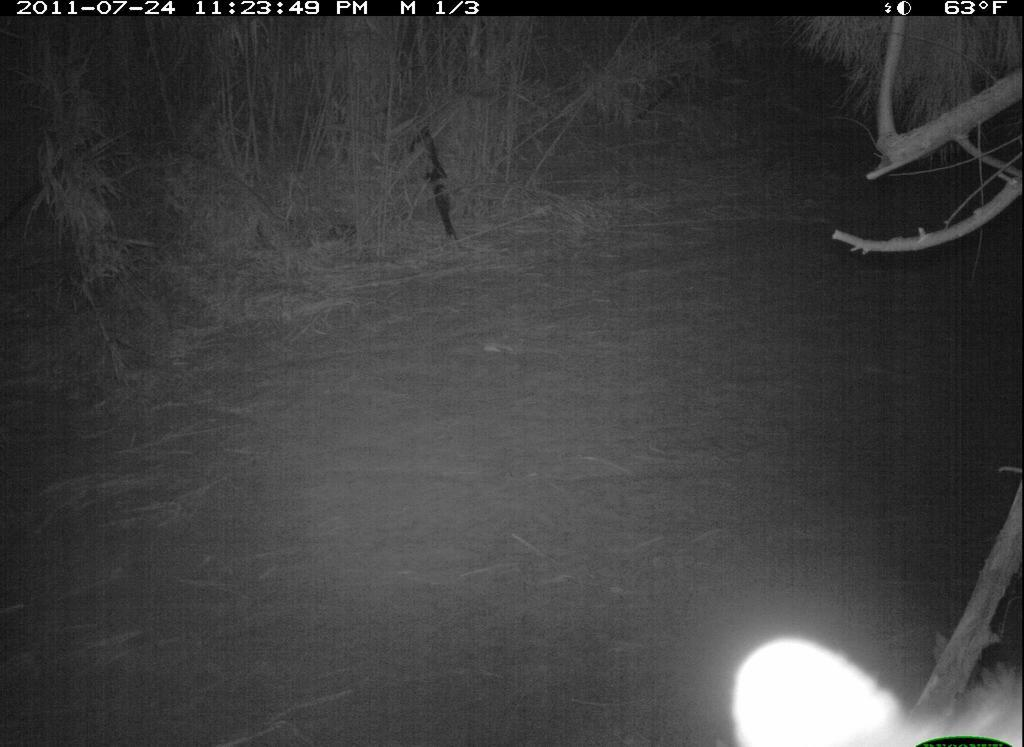raccoon: (722, 628, 1023, 747)
